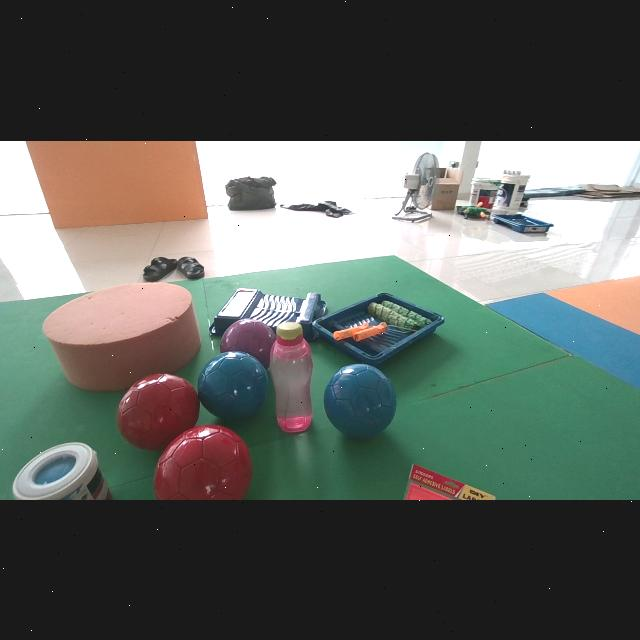B: (324, 364, 396, 438), (197, 352, 268, 419)
P: (220, 318, 276, 367)
R: (154, 424, 253, 500), (117, 373, 200, 450)
